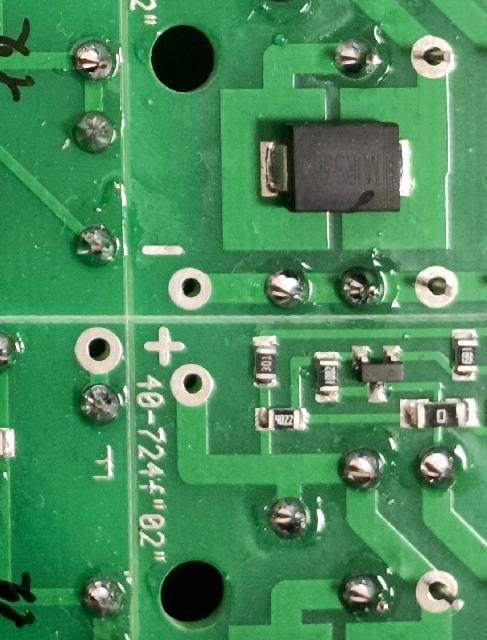chip-resistor: (397, 398, 479, 429), (449, 326, 479, 382), (312, 349, 341, 404), (252, 406, 310, 432), (250, 333, 278, 386)
diode: (258, 118, 415, 217)
transistor: (350, 342, 408, 405)
